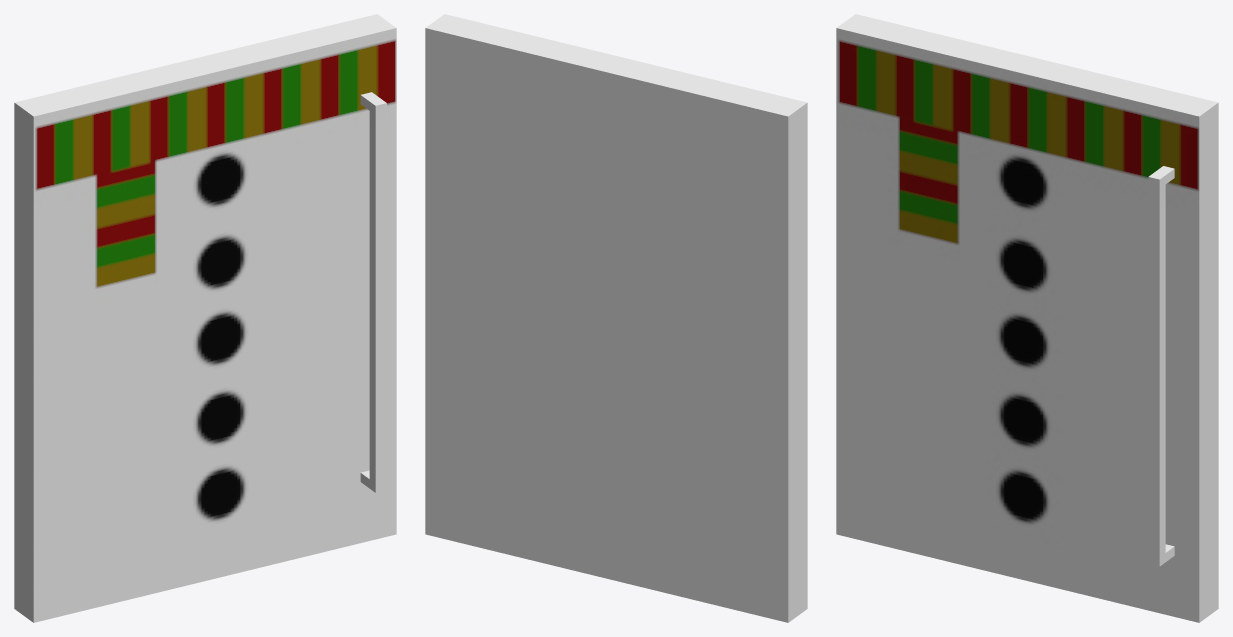
The model's file is Fridgedoor_Naughty_3.FBX.
The picture shows the model from 3 angles, left to right: view 1: azimuth 30°, elevation 25°; view 2: azimuth 150°, elevation 25°; view 3: azimuth 330°, elevation 25°; orthographic projection.
Parts seen in each view (by area): view 1: Fridge_Door; view 2: Fridge_Door; view 3: Fridge_Door.
Part boxes in pixels (x1,y1,x2,y2): Fridge_Door: (14,14,396,622); Fridge_Door: (425,14,807,622); Fridge_Door: (836,14,1218,622).
Bounding box in the file's own units: 56 × 74.66 × 9.14.
